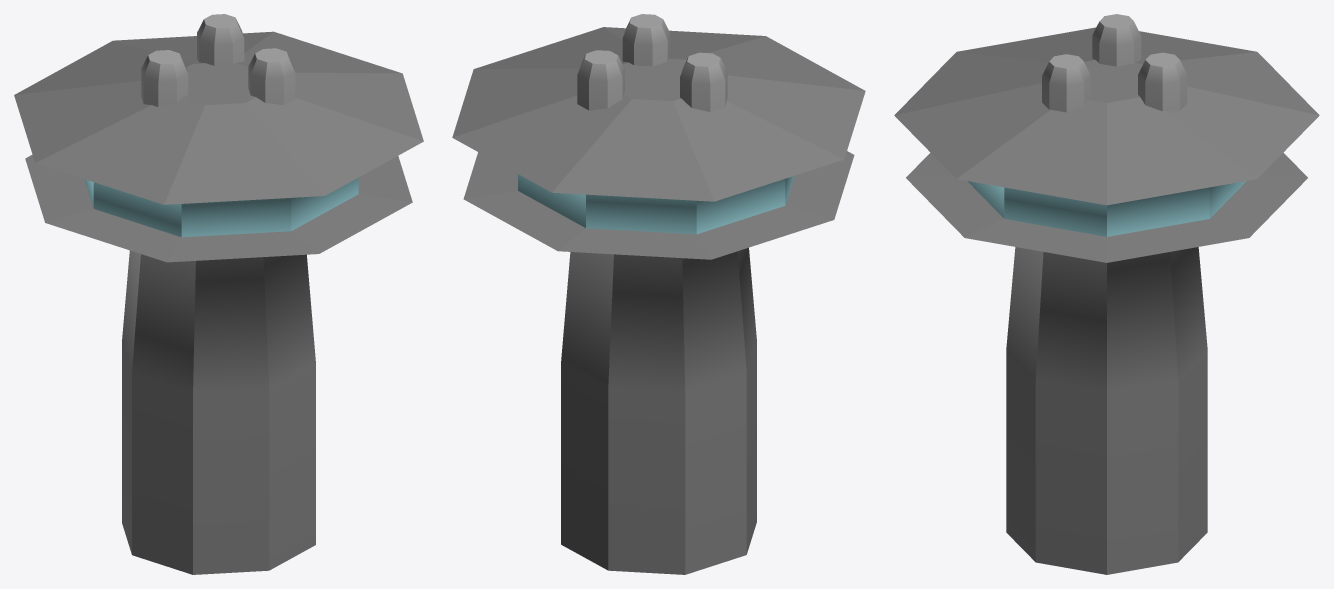
Rendered from AnotherLight4.fbx.
3 views of the same model, side by side, from view 1: azimuth 30°, elevation 25°; view 2: azimuth 150°, elevation 25°; view 3: azimuth 270°, elevation 25° (orthographic).
Visible parts, largest first — view 1: anotherlight4; view 2: anotherlight4; view 3: anotherlight4.
Boxes of the visible parts, x1,y1,x2,y2 form: anotherlight4: (14, 14, 423, 574); anotherlight4: (452, 14, 865, 574); anotherlight4: (894, 14, 1319, 574).
Bounding box in the file's own units: 21.35 × 26.95 × 21.35.
